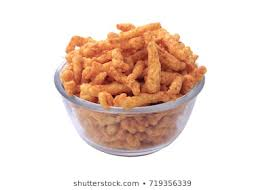kurkure: (57, 20, 208, 115)
